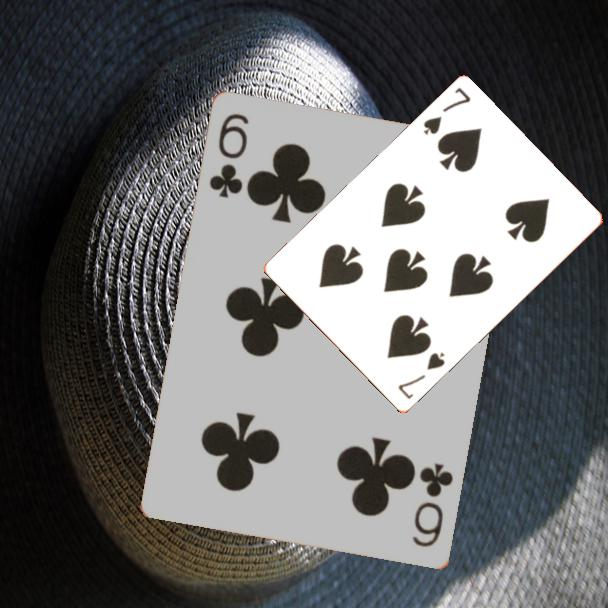c06: (409, 460, 457, 551), (206, 110, 252, 201)
s07: (419, 84, 474, 138), (394, 349, 448, 403)
